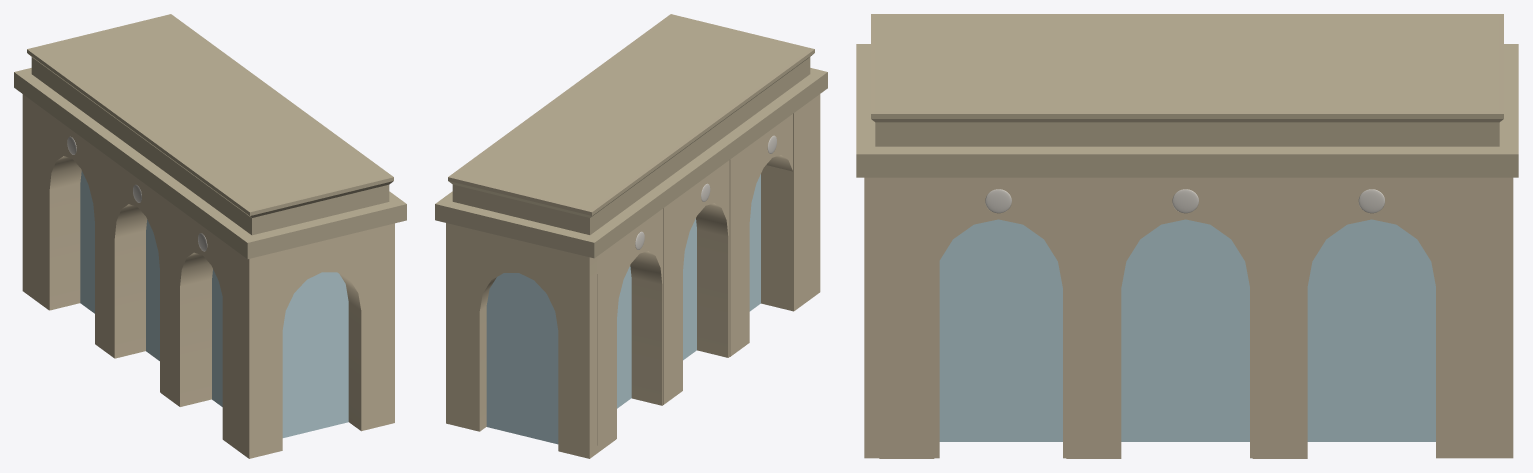
File: orangerie.fbx
3 renders of one model, left to right at view 1: azimuth 30°, elevation 25°; view 2: azimuth 150°, elevation 25°; view 3: azimuth 270°, elevation 25°, orthographic. The views are drawn at different scales.
Parts seen in each view (by area): view 1: pasted__pCube2, pasted__arche_4, pasted__pCube1, pasted__arche_11, pasted__arche_10, pasted__arche_12, pasted__arche_13; view 2: pasted__pCube2, pasted__arche_13, pasted__pCube1, pasted__arche_11, pasted__arche_10, pasted__arche_4, pasted__arche_12; view 3: pasted__pCube2, pasted__pCube1, pasted__arche_1, pasted__arche_4, pasted__arche_13, pasted__arche_2, pasted__arche_3.
Part boxes in pixels (x1=…): pasted__pCube2: x1=14, y1=14, x2=406, y2=259; pasted__arche_4: x1=222, y1=223, x2=394, y2=458; pasted__pCube1: x1=80, y1=170, x2=348, y2=437; pasted__arche_11: x1=95, y1=147, x2=160, y2=392; pasted__arche_10: x1=30, y1=100, x2=95, y2=343; pasted__arche_12: x1=160, y1=196, x2=222, y2=406; pasted__arche_13: x1=22, y1=94, x2=48, y2=309; pasted__pCube2: x1=435, y1=14, x2=827, y2=258; pasted__arche_13: x1=446, y1=223, x2=615, y2=458; pasted__pCube1: x1=486, y1=174, x2=760, y2=444; pasted__arche_11: x1=663, y1=160, x2=729, y2=404; pasted__arche_10: x1=597, y1=209, x2=662, y2=452; pasted__arche_4: x1=761, y1=94, x2=820, y2=311; pasted__arche_12: x1=729, y1=114, x2=792, y2=356; pasted__pCube2: x1=856, y1=14, x2=1518, y2=177; pasted__pCube1: x1=939, y1=219, x2=1435, y2=441; pasted__arche_1: x1=1066, y1=177, x2=1305, y2=458; pasted__arche_4: x1=864, y1=177, x2=939, y2=458; pasted__arche_13: x1=1438, y1=177, x2=1513, y2=458; pasted__arche_2: x1=879, y1=177, x2=1117, y2=458; pasted__arche_3: x1=1252, y1=177, x2=1438, y2=458.
Size of the model in its own units: 2.09 by 3.06 by 5.3.
